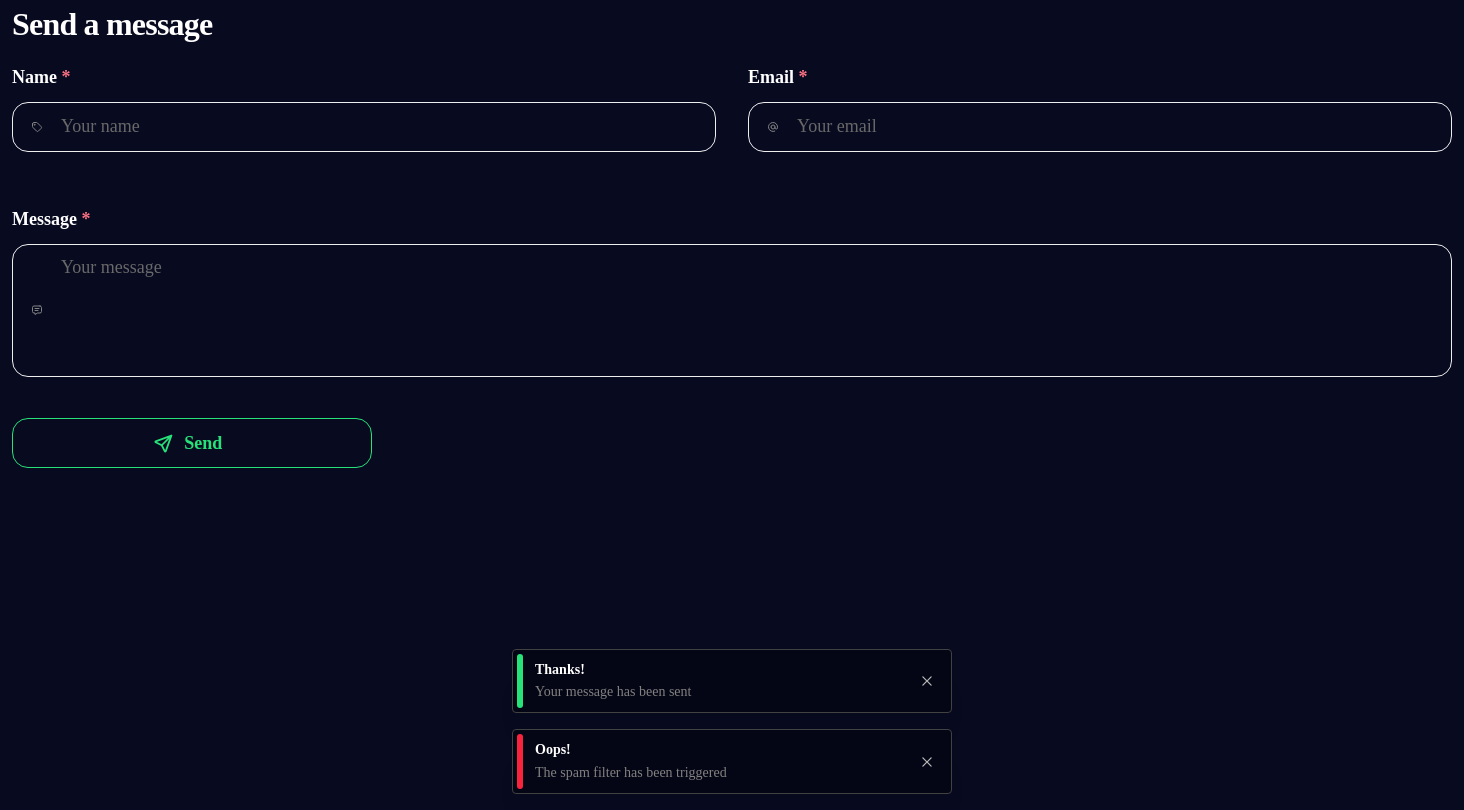
Test: ContactForm › falls back to a generic error when the API response is malformed
Type "Jane" into the field labelled "Name *" at (364, 127), box [12,102,716,152]
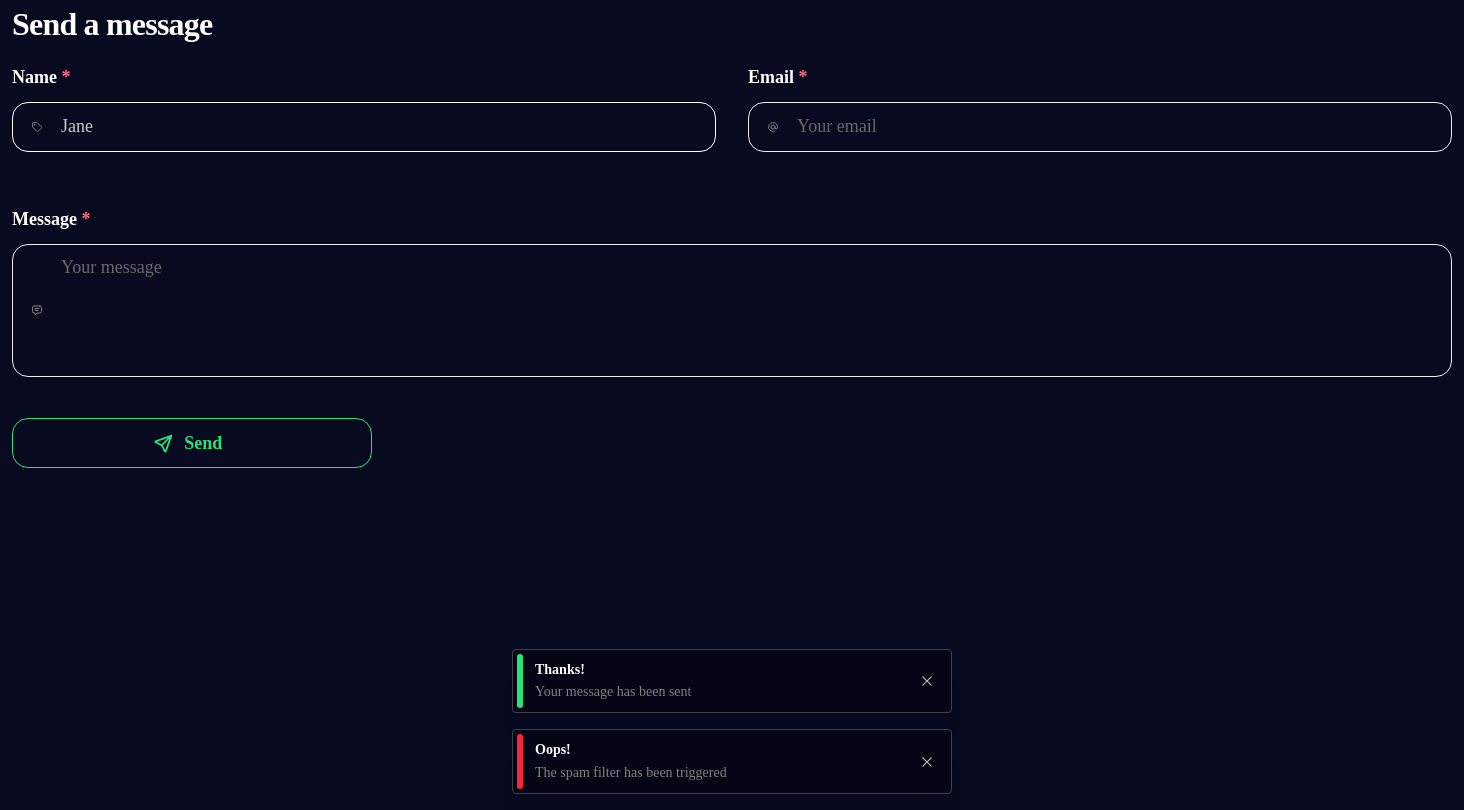
Type "jane@example.com" into the field labelled "Email *" at (1100, 127), box [748,102,1452,152]
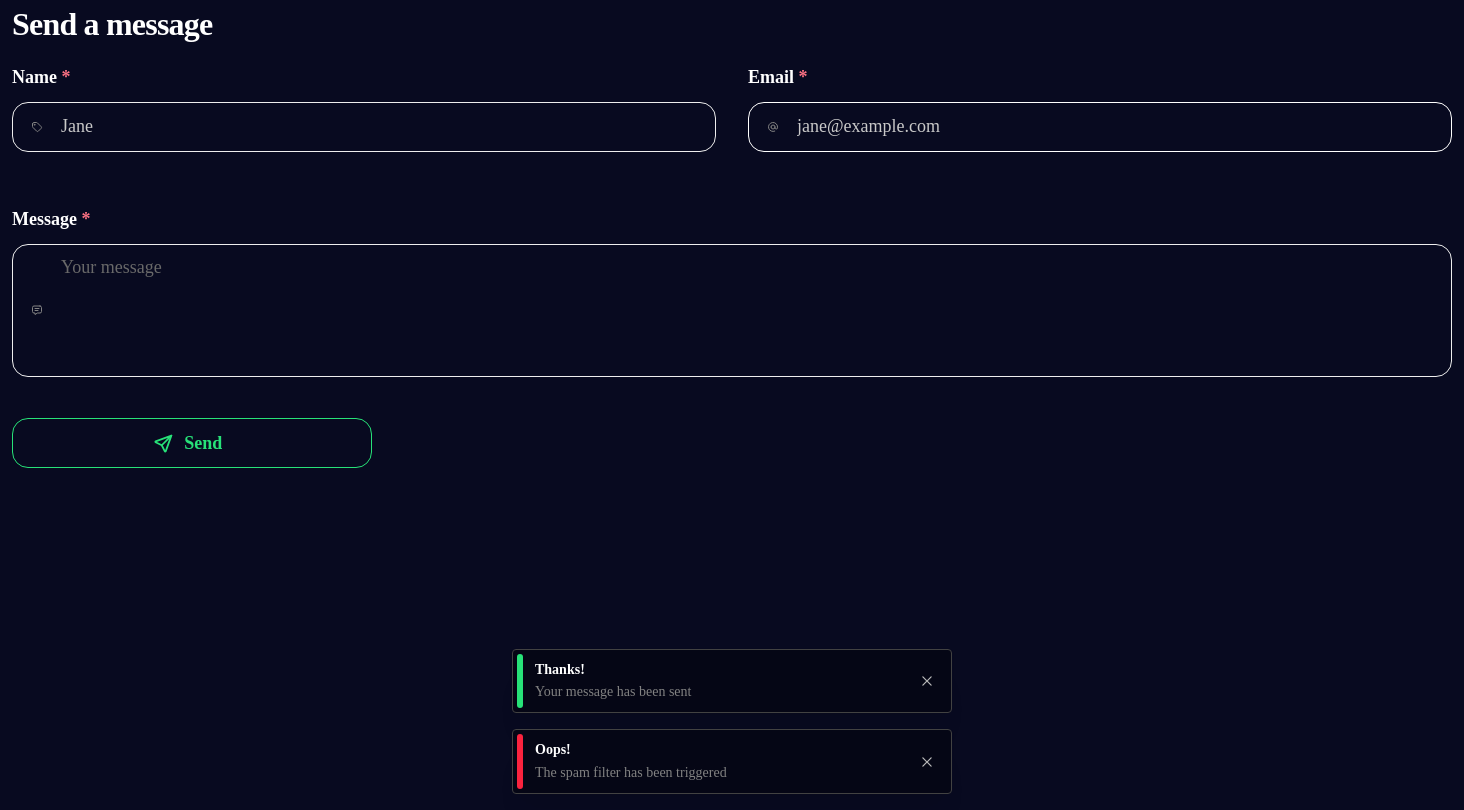
Type "Hello there!" into the text box labelled "Message *" at (732, 310), box [12,244,1452,377]
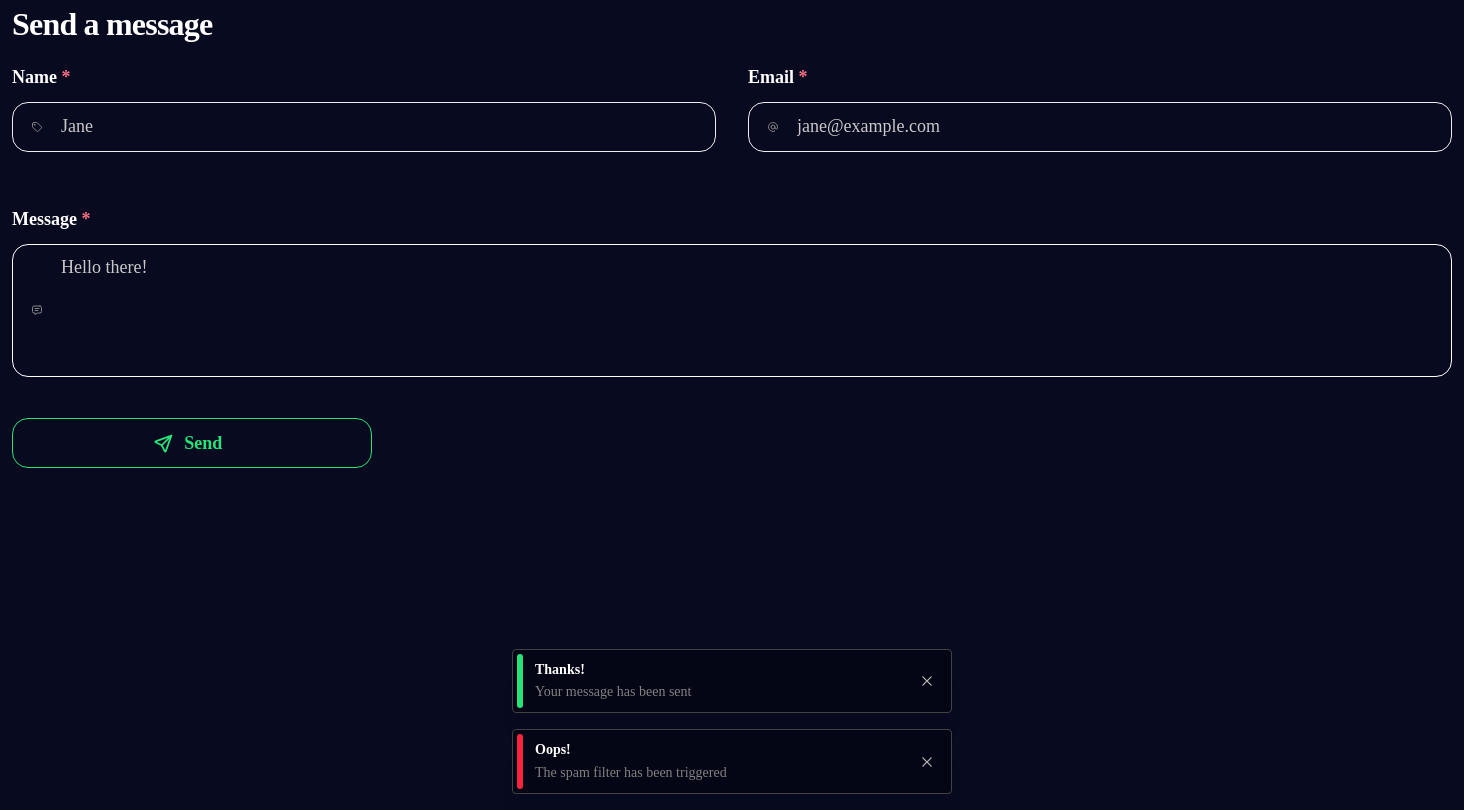
Click the button "Send" at (192, 443), box [12,418,372,468]
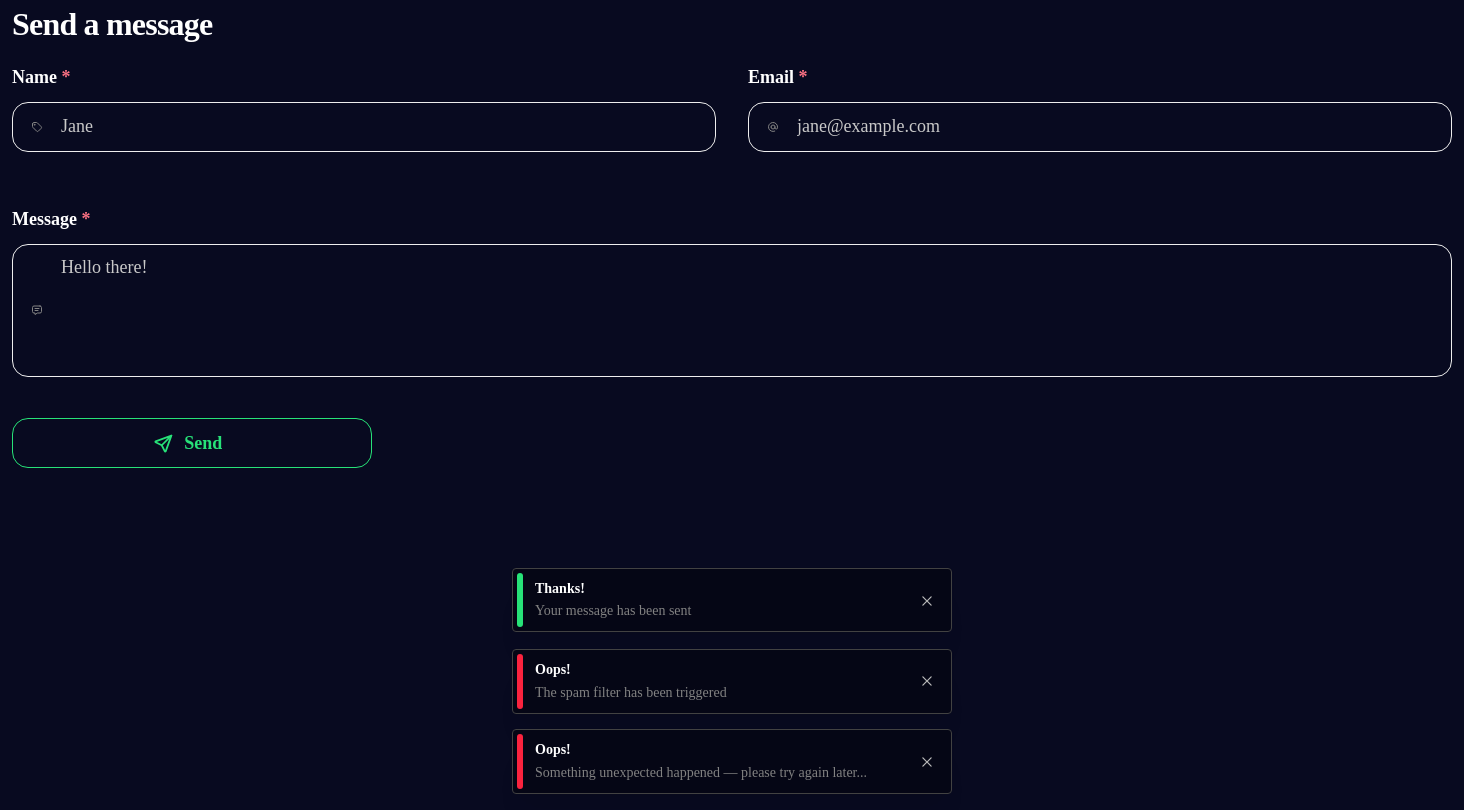
expect the text "Something unexpected happened — please try again later..." is shown: met, box [535,763,903,783]
